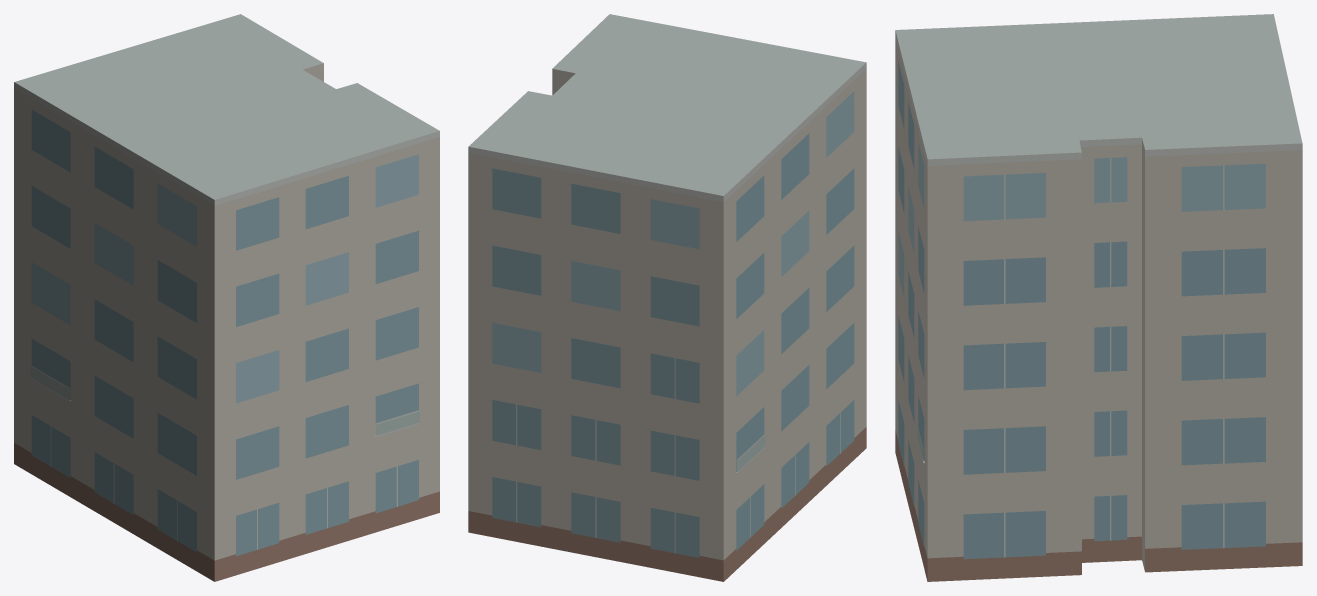
Rendered from survey-upis-33009560.glb.
3 renders of one model, left to right at view 1: azimuth 30°, elevation 25°; view 2: azimuth 150°, elevation 25°; view 3: azimuth 270°, elevation 25°, orthographic. The views are drawn at different scales.
Visible parts, largest first — view 1: survey-upis-33009560.tmp; view 2: survey-upis-33009560.tmp; view 3: survey-upis-33009560.tmp.
Part boxes in pixels (bbox=[...]): survey-upis-33009560.tmp: bbox=[14, 14, 439, 581]; survey-upis-33009560.tmp: bbox=[468, 14, 866, 581]; survey-upis-33009560.tmp: bbox=[895, 14, 1302, 581].
Bounding box in the file's own units: 11.41 × 15.45 × 13.5.
